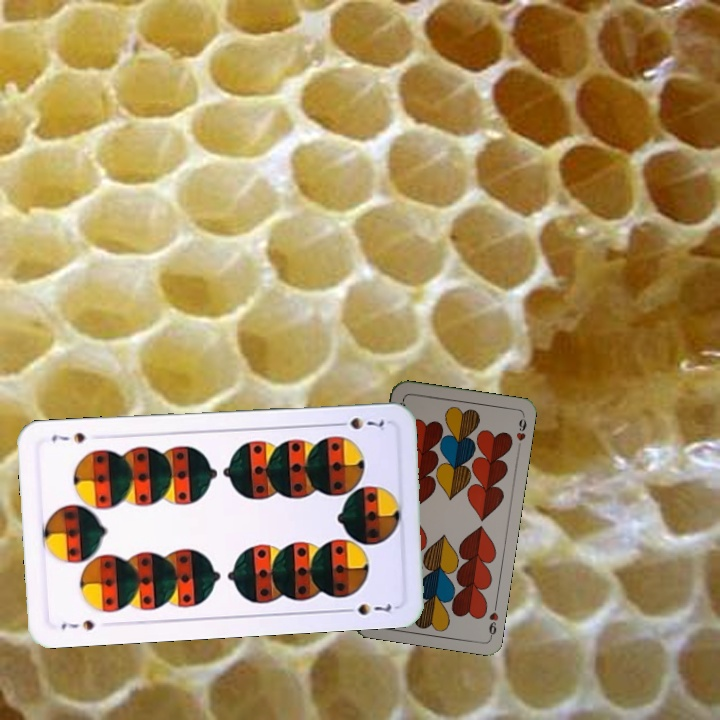H9: (485, 599, 501, 640)
S7: (331, 413, 389, 433), (57, 616, 96, 633)
